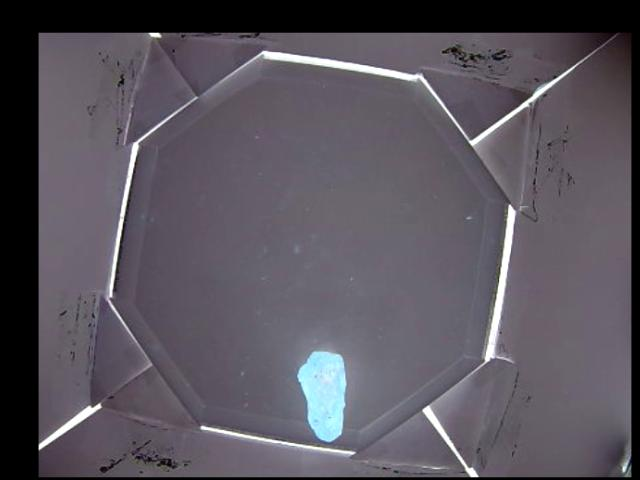Brisk: (298, 351, 346, 441)
